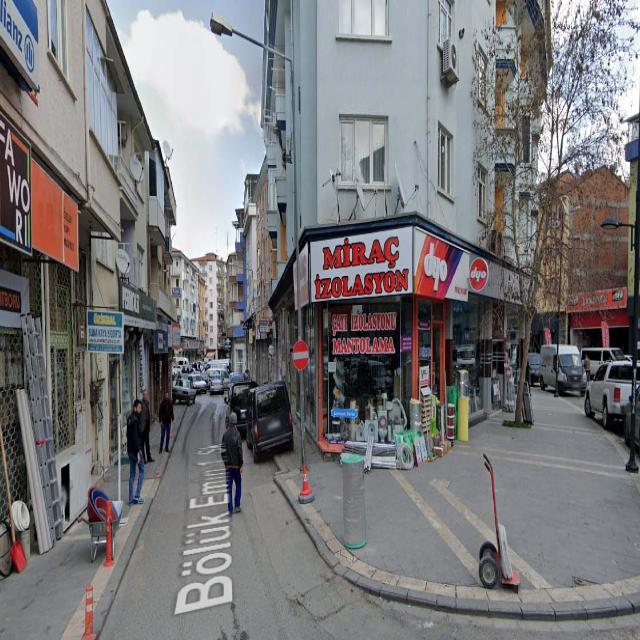girisyok: (292, 342, 310, 368)
